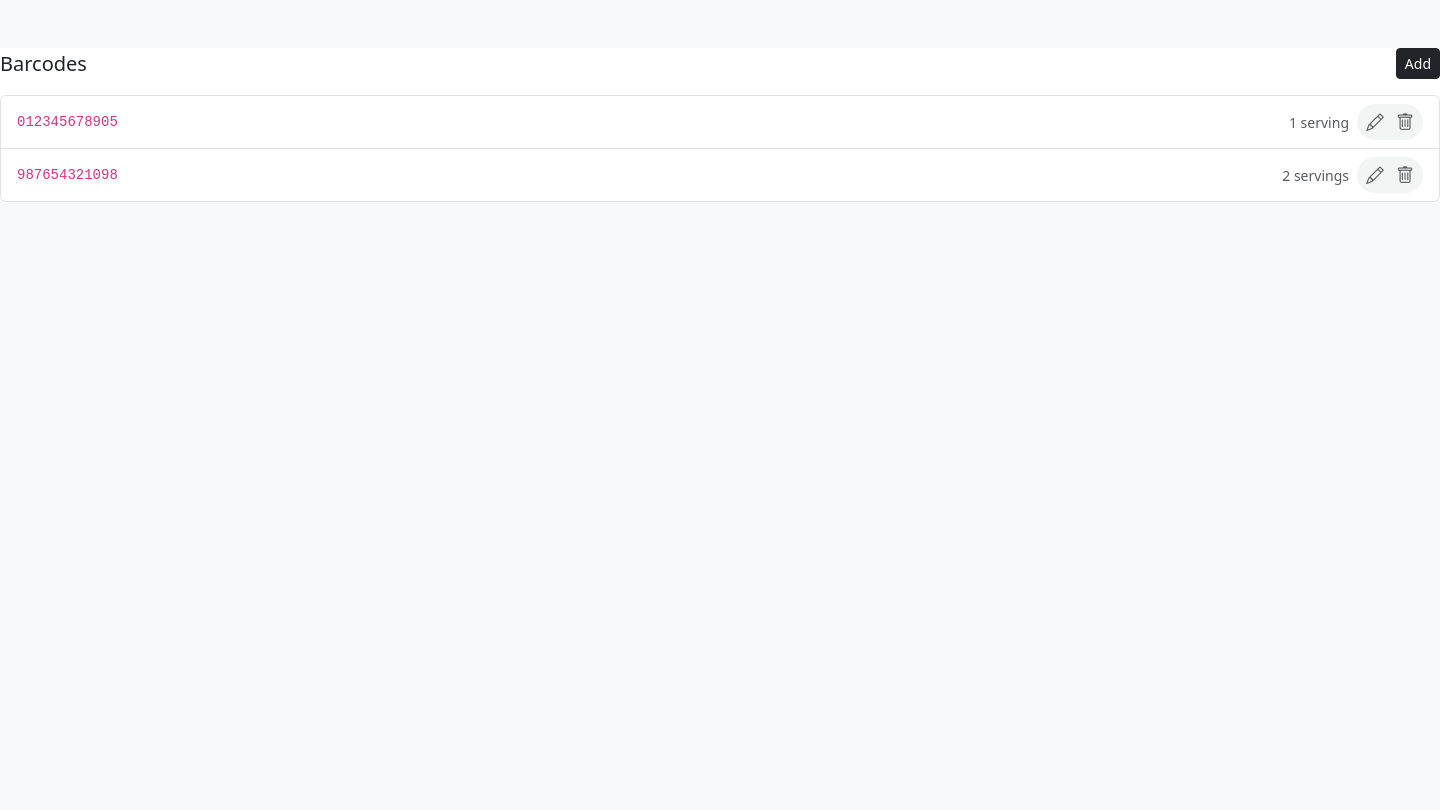
Scenario: BarcodesSection › add modal includes serving size and prep controls
The width and height of the screenshot is (1440, 810).
Click the button "Add" at (1418, 64), box [1396, 48, 1439, 79]
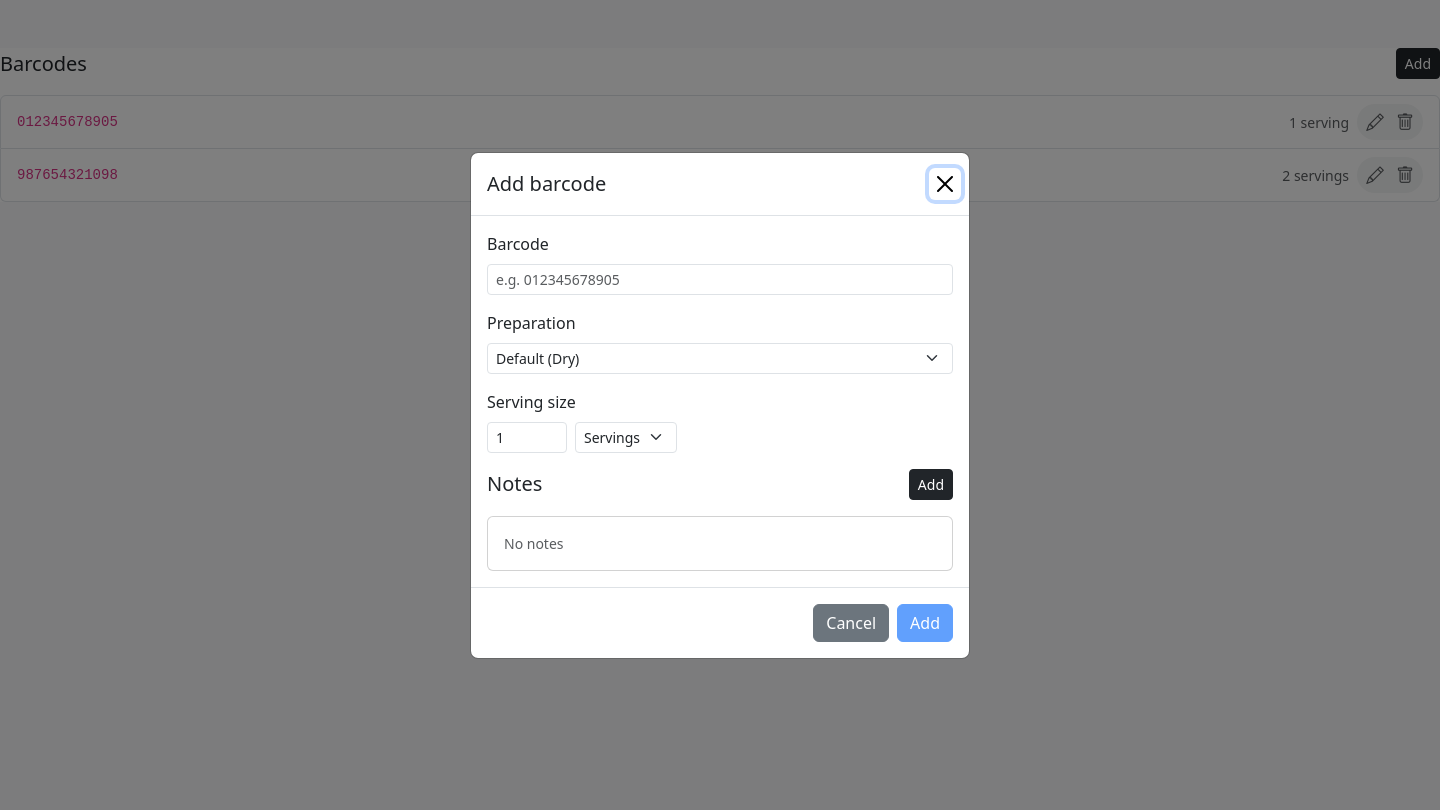
Expected: the field named "Barcode serving amount" is shown, [487, 422, 567, 452]
Expected: the button with aria-label "Barcode serving unit" is shown, [575, 422, 677, 452]
Expected: the dropdown labelled "Preparation" is shown, [487, 342, 953, 374]
